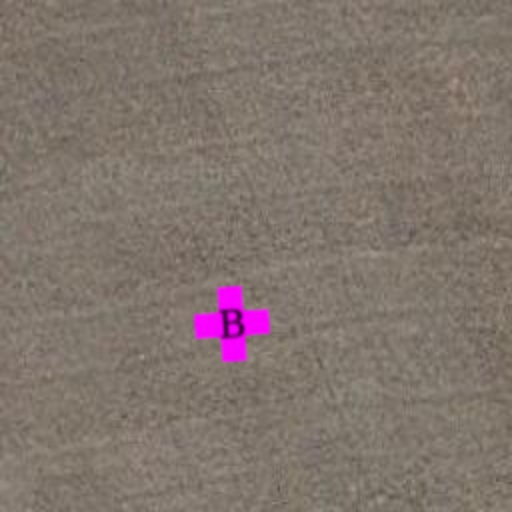cross: (190, 282, 274, 366)
